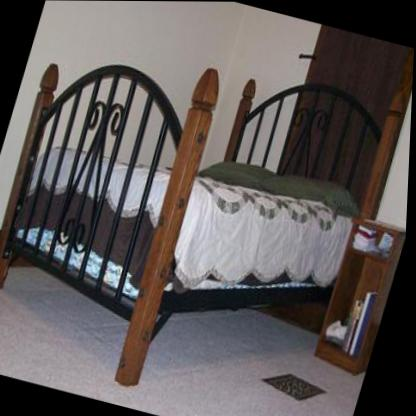Bed: (0, 1, 410, 416)
